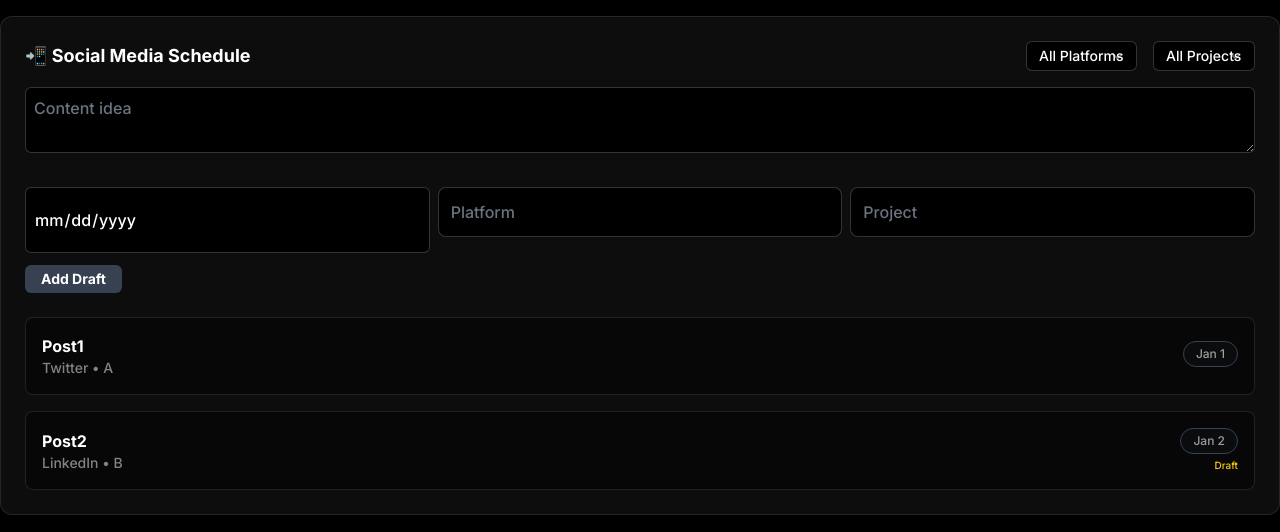
Scenario: renders posts and filters by platform
The width and height of the screenshot is (1280, 532).
Check: the heading "Post1" is shown, box [42,336,84,356]
Check: the heading "Post2" is shown, box [42,430,87,450]
Select "Twitter" in the 1st dropdown. click: (1082, 56)
box: [1026,41,1137,71]
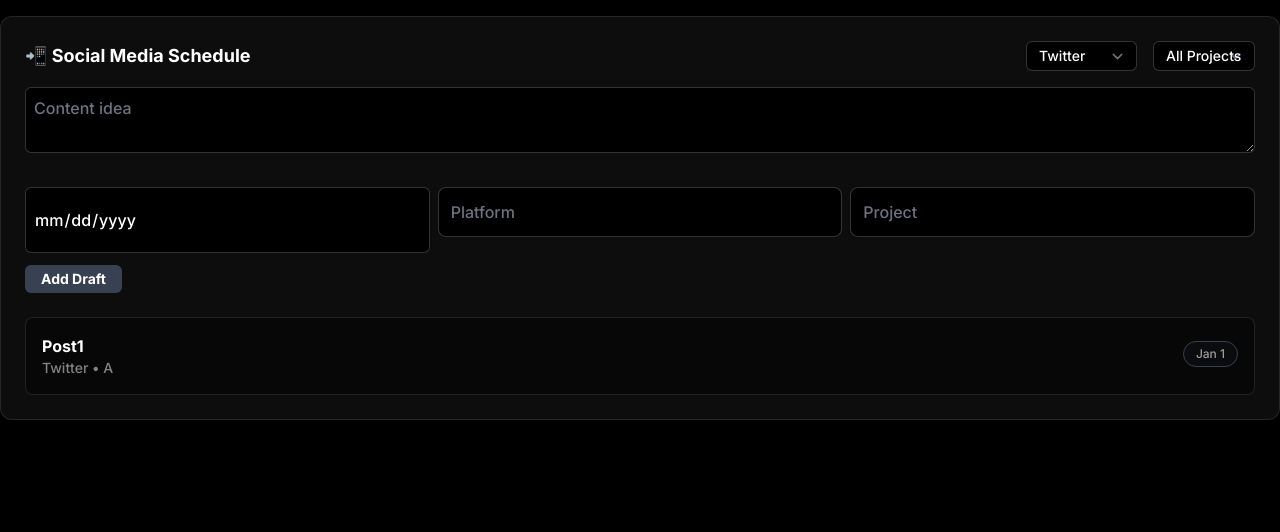
Check: the heading "Post1" is shown, box [42,336,84,356]
Check: the heading "Post2" is gone
